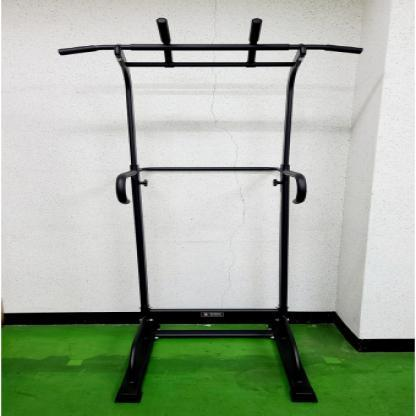chinning dipping: (59, 18, 364, 404)
